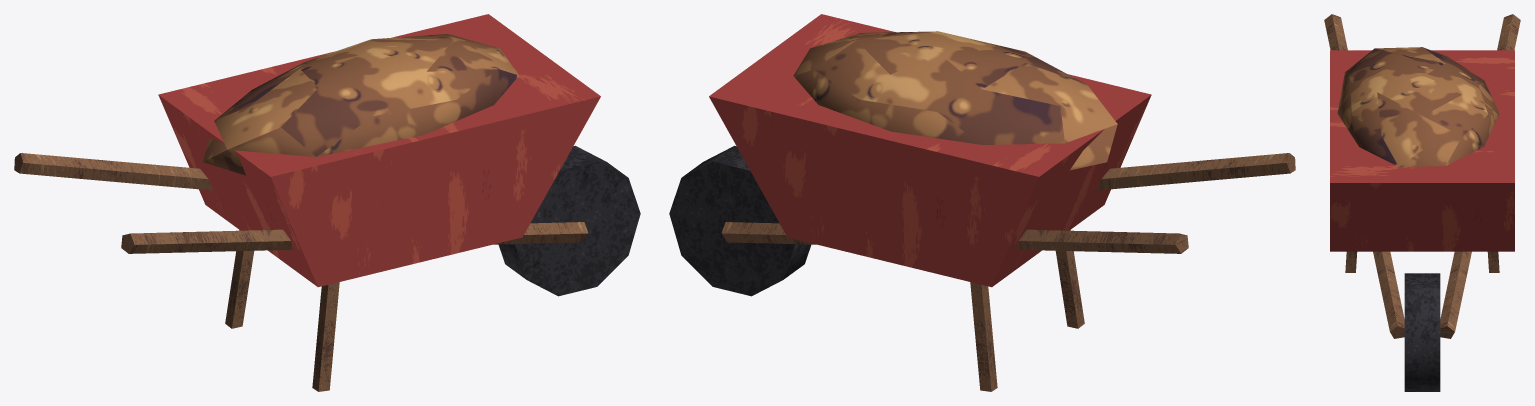
The model's file is wheelbarrow.glb.
The picture shows the model from 3 angles, left to right: view 1: azimuth 30°, elevation 25°; view 2: azimuth 150°, elevation 25°; view 3: azimuth 270°, elevation 25°; orthographic projection. The views are drawn at different scales.
Visible parts, largest first — view 1: Wheelbarrow; view 2: Wheelbarrow; view 3: Wheelbarrow.
Part boxes in pixels (box(x1,y1,x2,y2)): Wheelbarrow: box(14, 14, 640, 391); Wheelbarrow: box(669, 14, 1295, 391); Wheelbarrow: box(1324, 14, 1520, 391).
Bounding box in the file's own units: 1.78 × 0.8565 × 0.6581.
Materials: 4 (4 with a texture image).
